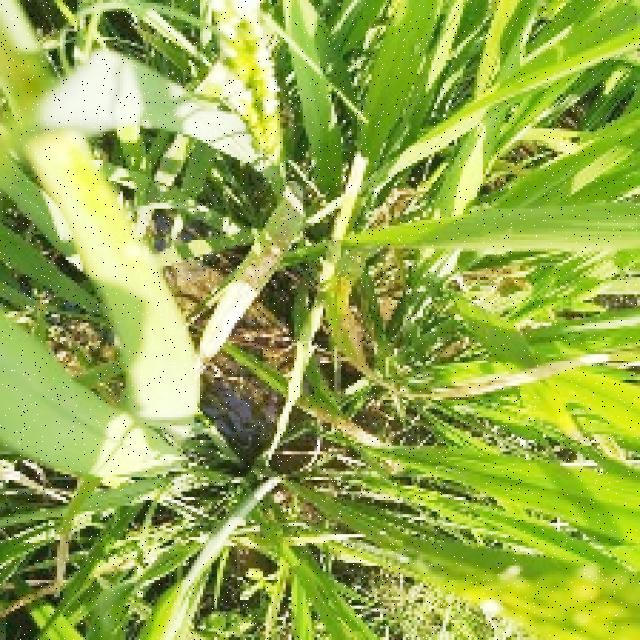health: (194, 0, 639, 194)
